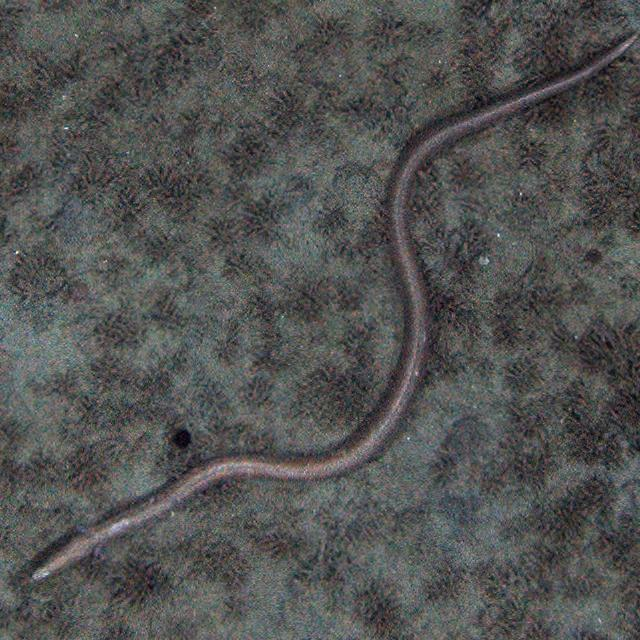eel: (29, 22, 635, 582)
